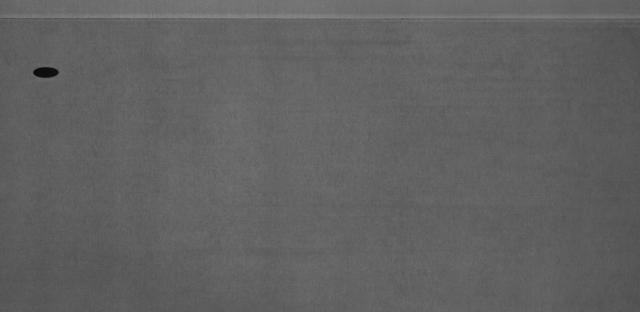punching_hole: (29, 63, 63, 81)
welding_line: (1, 10, 637, 27)
